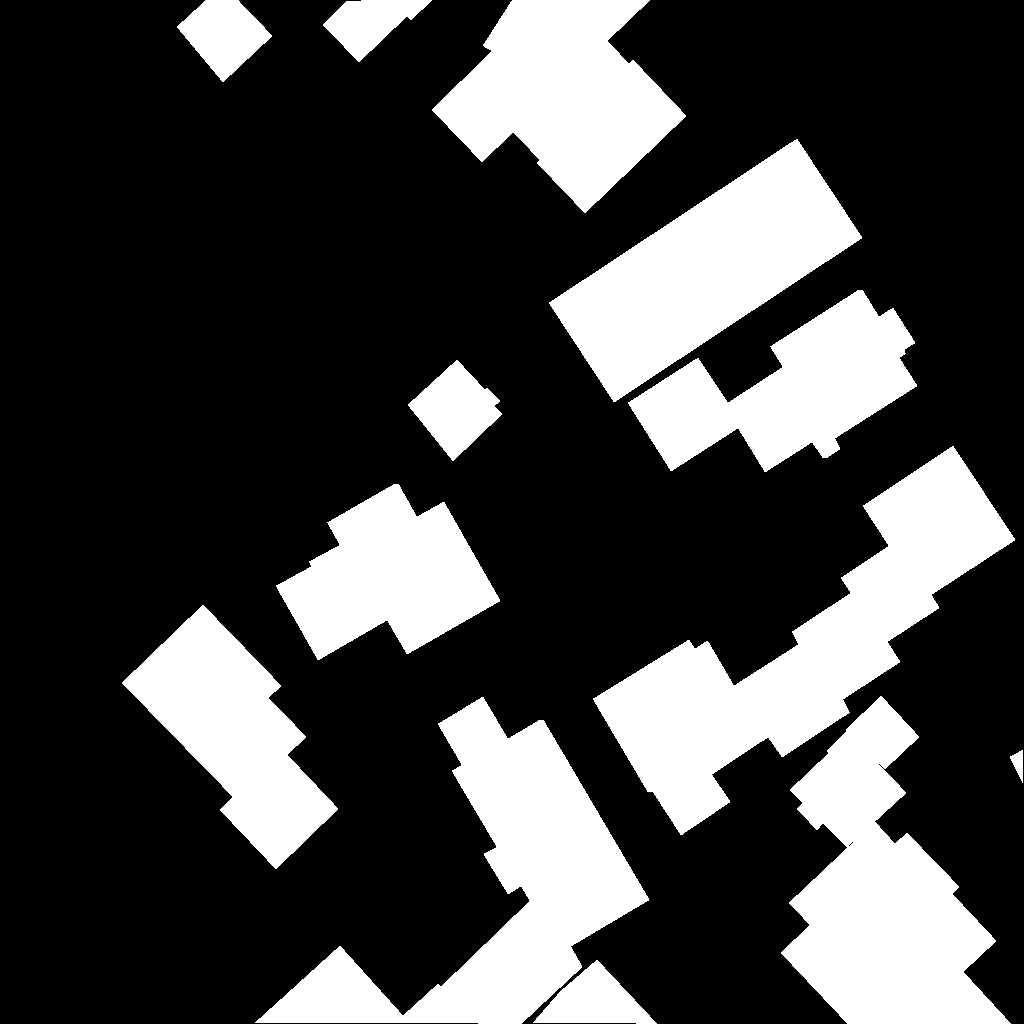building: (593, 446, 1016, 836), (255, 697, 650, 1024), (549, 139, 863, 403), (122, 605, 339, 870), (432, 0, 687, 214), (628, 289, 918, 473), (781, 822, 1012, 1024), (276, 483, 501, 661), (790, 731, 907, 848), (408, 360, 503, 462), (533, 960, 658, 1024), (177, 0, 273, 83), (323, 0, 433, 63), (846, 696, 920, 770), (1010, 750, 1024, 785)
